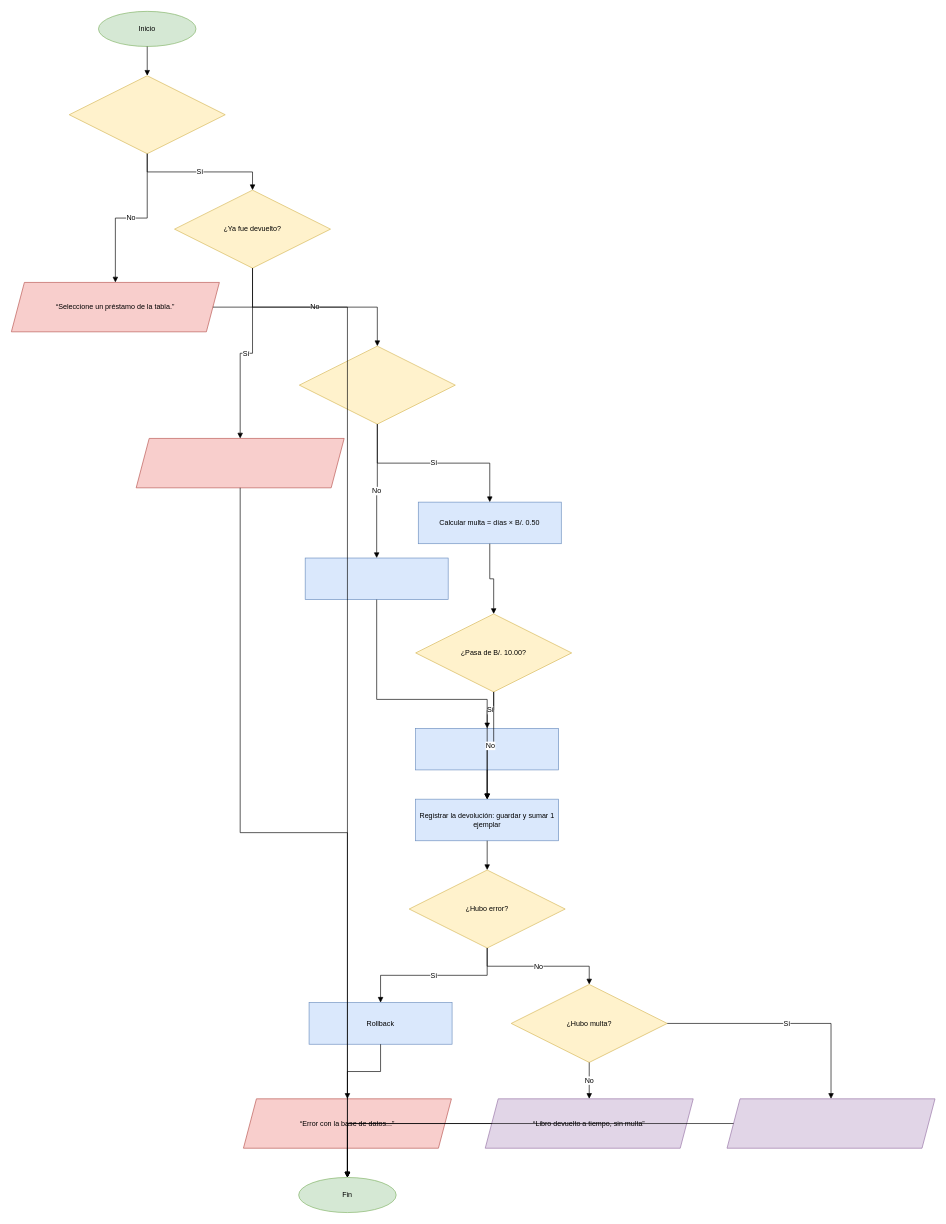
This 946x1224 diagram has some shape labels left out. The centre of each missing label's shape, as x and y in pixels:
Multa = 0: the point at 376,578
Multa = 10.00: the point at 487,749
¿Devuelve después del vencimiento?: the point at 377,384
¿Seleccionó un préstamo?: the point at 147,114
“El préstamo ya fue devuelto.”: the point at 240,463
“Libro devuelto con multa de B/. ...”: the point at 830,1123
